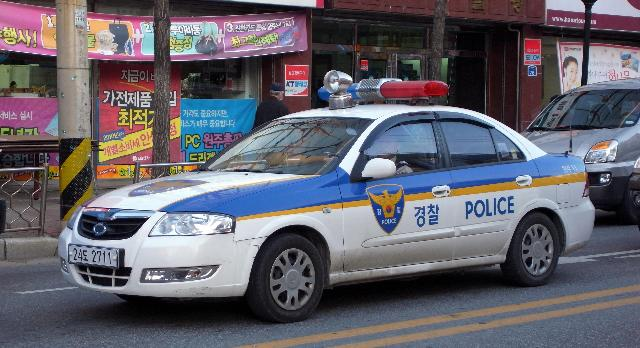police_car: (58, 79, 595, 314)
